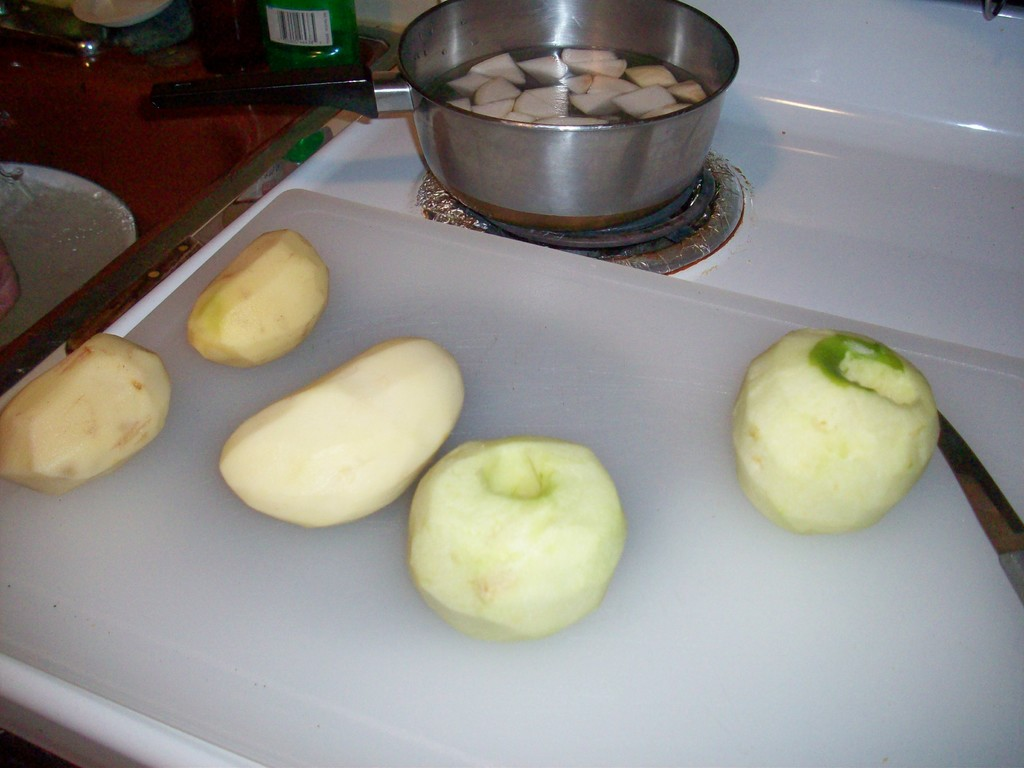Apple: (401, 452, 640, 661), (730, 332, 940, 537)
